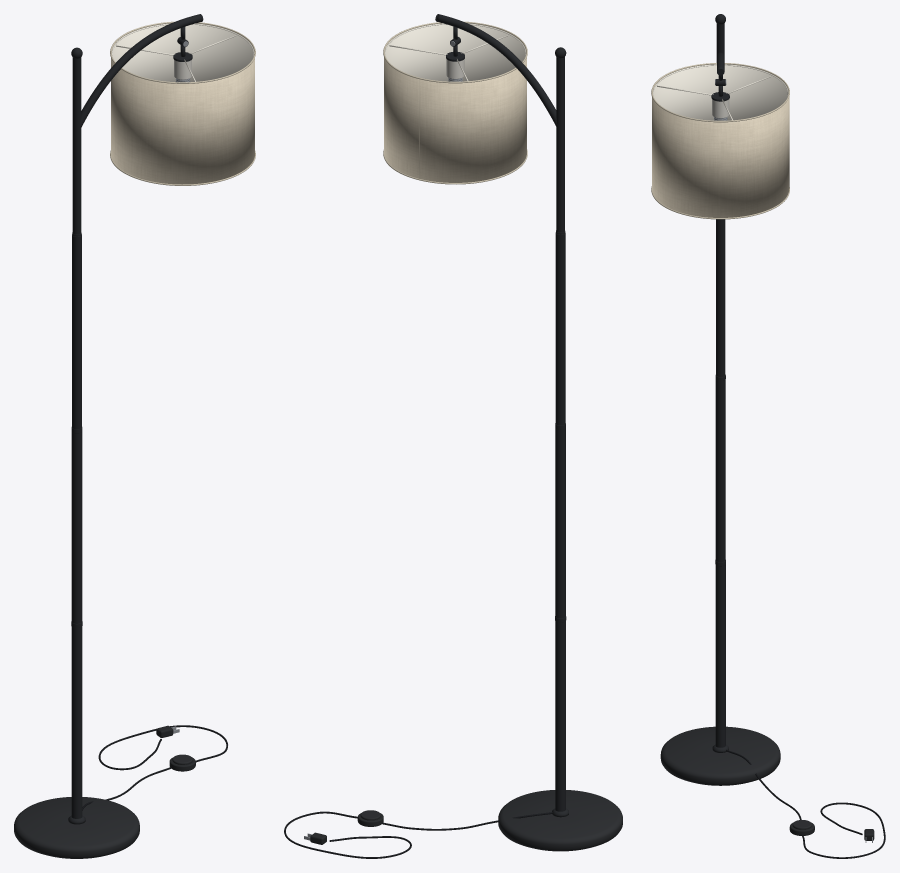
The model's file is ambimall-floor-lamp.glb.
3 renders of one model, left to right at view 1: azimuth 30°, elevation 25°; view 2: azimuth 150°, elevation 25°; view 3: azimuth 270°, elevation 25°, orthographic. The views are drawn at different scales.
Parts seen in each view (by area): view 1: Beige linen drum shade | hollow, Weighted round base, Upright pole section 1, Upright pole section 2, Upright pole section 3, Upright pole section 4, Curved black overhanging arm, Top linen rolled hem, Cable | switch to plug; view 2: Beige linen drum shade | hollow, Weighted round base, Upright pole section 3, Upright pole section 1, Upright pole section 2, Upright pole section 4, Curved black overhanging arm, Cable | switch to plug, Top linen rolled hem; view 3: Beige linen drum shade | hollow, Weighted round base, Upright pole section 1, Upright pole section 2, Upright pole section 3, Top linen rolled hem, Cable | switch to plug.
Part boxes in pixels (x1,y1,x2,y2): Beige linen drum shade | hollow: [111, 23, 254, 184]; Weighted round base: [14, 797, 139, 858]; Upright pole section 1: [71, 627, 82, 818]; Upright pole section 2: [71, 432, 82, 623]; Upright pole section 3: [72, 234, 81, 429]; Upright pole section 4: [72, 57, 81, 234]; Curved black overhanging arm: [80, 14, 201, 127]; Top linen rolled hem: [110, 21, 255, 83]; Cable | switch to plug: [98, 725, 227, 770]; Beige linen drum shade | hollow: [384, 23, 526, 182]; Weighted round base: [498, 790, 622, 851]; Upright pole section 3: [555, 232, 565, 425]; Upright pole section 1: [555, 621, 565, 811]; Upright pole section 2: [555, 428, 565, 618]; Upright pole section 4: [556, 57, 564, 232]; Curved black overhanging arm: [437, 14, 557, 126]; Cable | switch to plug: [284, 811, 411, 858]; Top linen rolled hem: [383, 21, 527, 83]; Beige linen drum shade | hollow: [652, 64, 789, 217]; Weighted round base: [660, 726, 780, 785]; Upright pole section 1: [715, 565, 725, 747]; Upright pole section 2: [715, 380, 725, 562]; Upright pole section 3: [716, 219, 725, 376]; Top linen rolled hem: [651, 63, 789, 122]; Cable | switch to plug: [801, 802, 885, 858].
Size of the model in its own units: 0.5319 by 1.52 by 0.4307.
10 materials, 1 textured.
